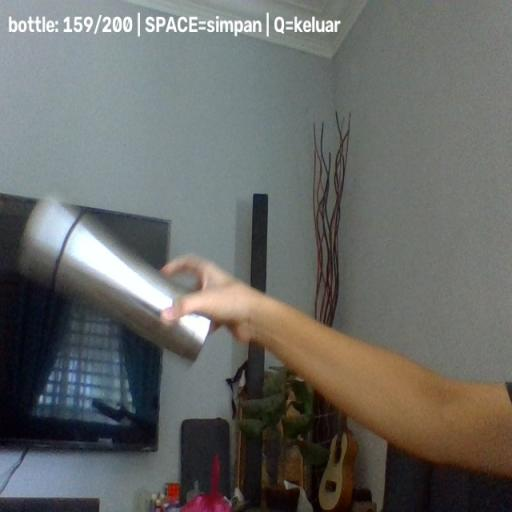Bottle: (19, 193, 215, 362)
